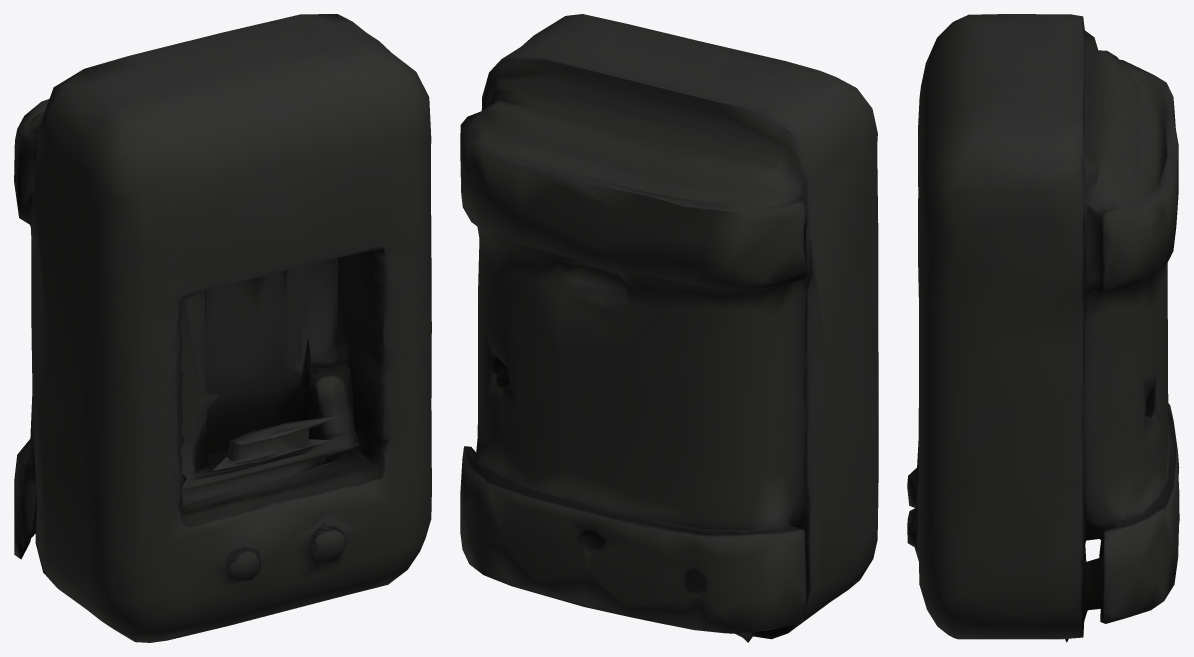
File: sauna-heater.glb
The picture shows the model from 3 angles, left to right: view 1: azimuth 30°, elevation 25°; view 2: azimuth 150°, elevation 25°; view 3: azimuth 270°, elevation 25°; orthographic projection. The views are drawn at different scales.
Parts seen in each view (by area): view 1: input; view 2: input; view 3: input.
Part boxes in pixels (x1,y1,x2,y2): input: (14,14,431,642); input: (460,14,878,642); input: (907,14,1179,642).
Size of the model in its own units: 0.2649 by 0.4 by 0.1879.
Materials: 1 (1 with a texture image).
